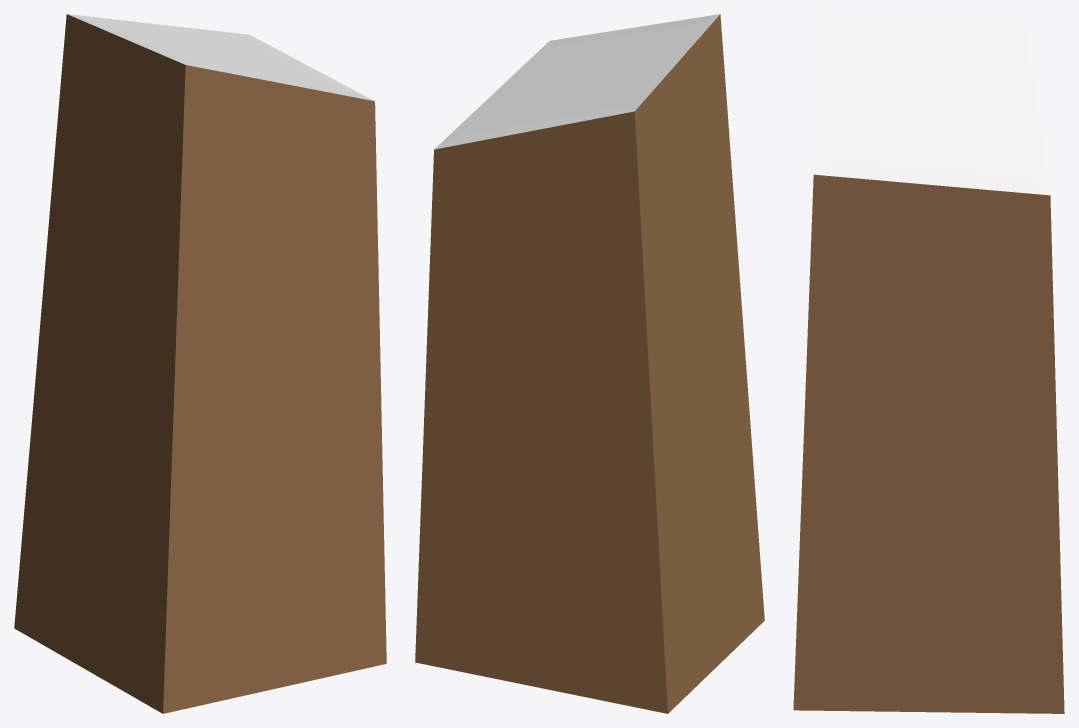
The model's file is Pine_Stump_Snow_04.fbx.
The picture shows the model from 3 angles, left to right: view 1: azimuth 30°, elevation 25°; view 2: azimuth 150°, elevation 25°; view 3: azimuth 270°, elevation 25°; orthographic projection. The views are drawn at different scales.
Visible parts, largest first — view 1: Pine_Stump_Snow_04; view 2: Pine_Stump_Snow_04; view 3: Pine_Stump_Snow_04.
Part boxes in pixels (x1=…): Pine_Stump_Snow_04: x1=14, y1=14, x2=386, y2=713; Pine_Stump_Snow_04: x1=415, y1=14, x2=764, y2=713; Pine_Stump_Snow_04: x1=793, y1=14, x2=1064, y2=713.
Size of the model in its own units: 24.73 by 59.29 by 23.91.
